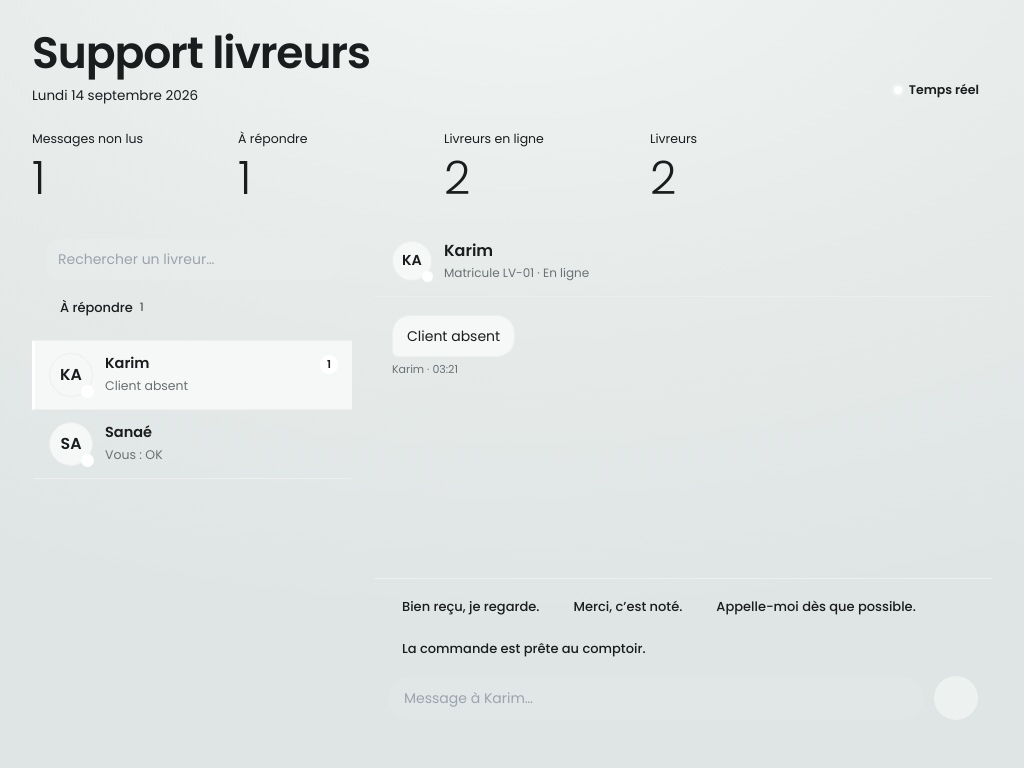
Test case: SupportScreen › filtre les conversations à répondre et remplit une réponse rapide
Expected: the button "SA Sanaé Vous : OK" is shown, [32,410,352,479]
Click the button "À répondre 1" at (102, 308), box [46,290,158,326]
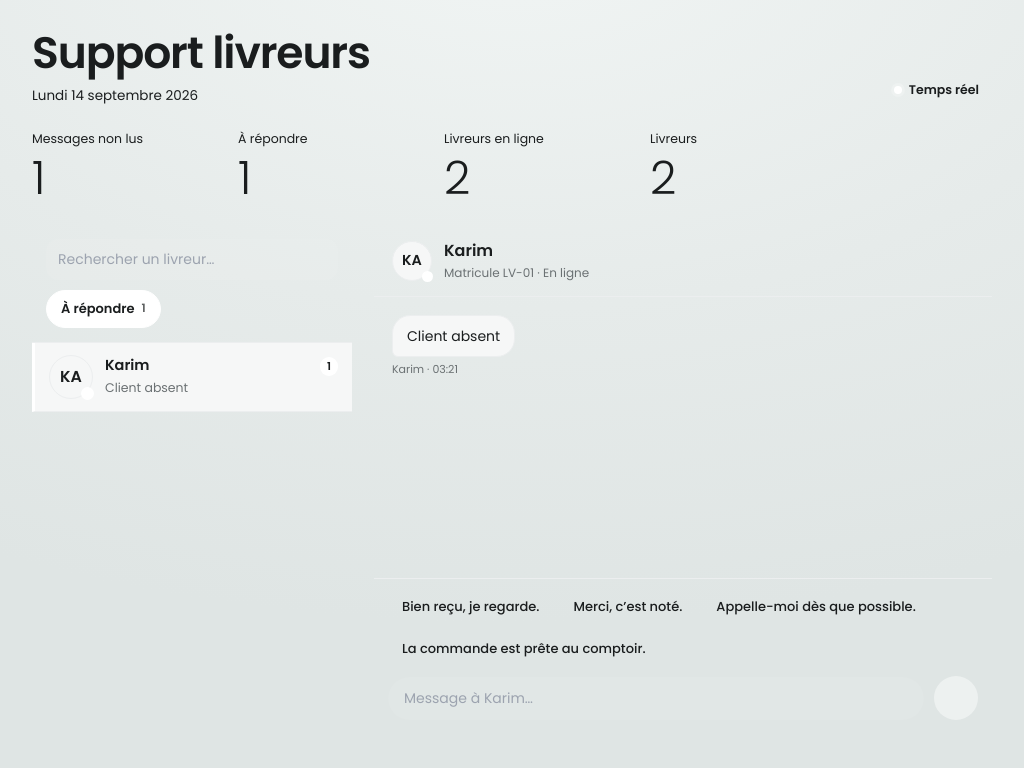
Expected: the button "Sanaé" is gone
Click the button "Bien reçu, je regarde." at (471, 607), box [388,589,554,625]
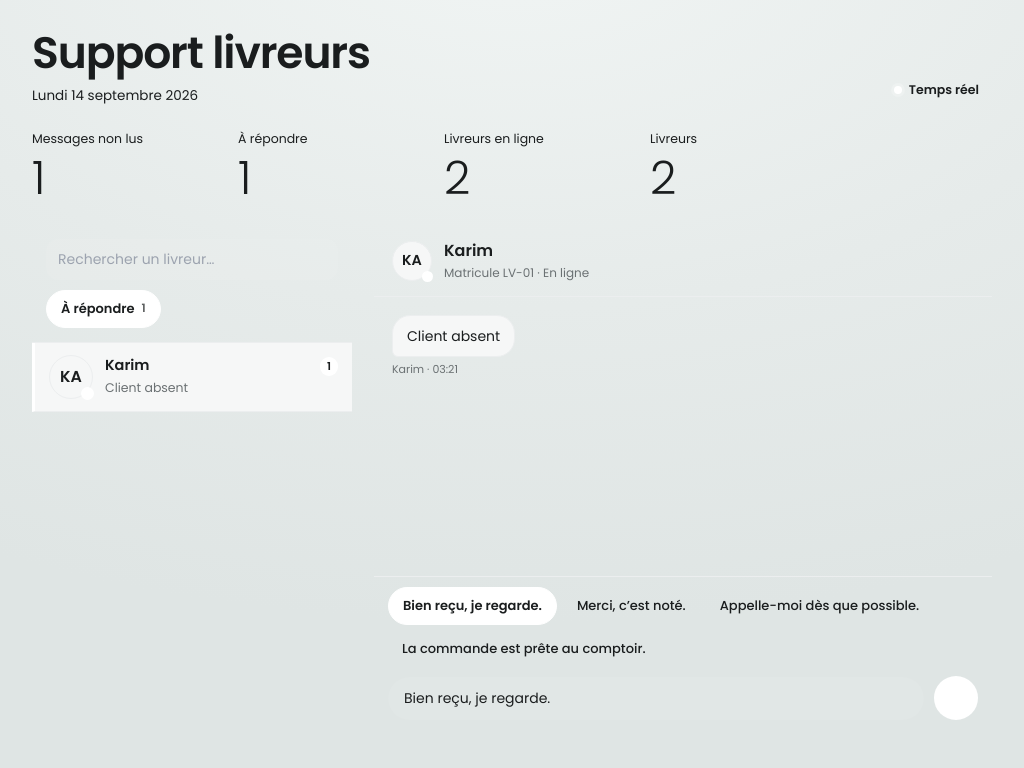
Expected: the button named "Envoyer" is enabled, [934,676,978,720]
Expected: the field named "Message à Karim" holds "Bien reçu, je regarde.", [388,677,924,720]
